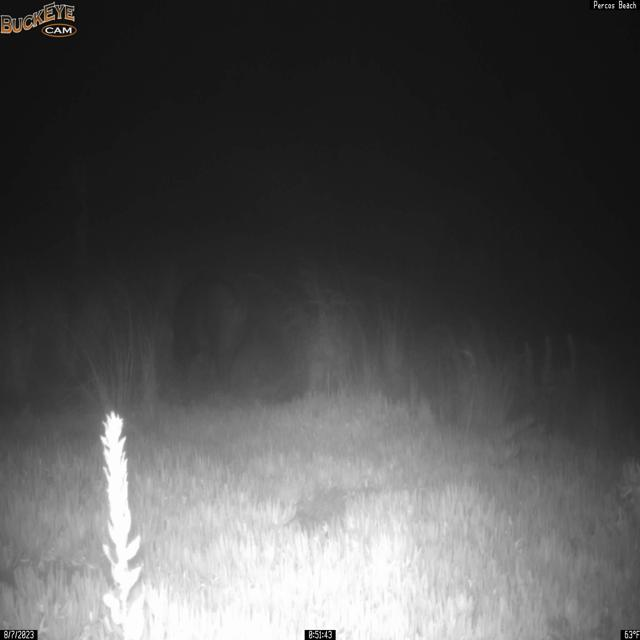pig: (170, 273, 251, 395)
